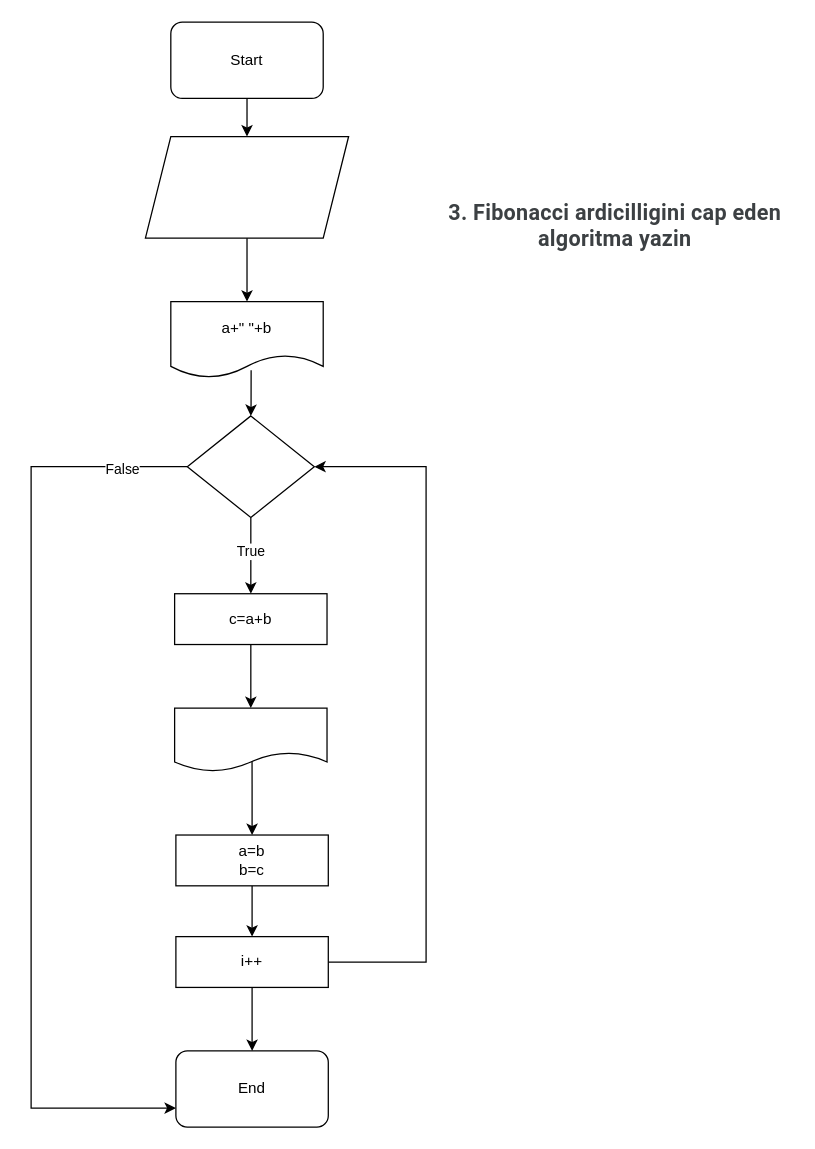
Image size: 815x1149. Some labels were removed from this diagram. The shapes that lost their labels are listed below. From the top down, each one's box as (x1, y1, x2, y2) in pixels, then its label:
(144, 135, 349, 238): int a=0; int b=1; int c; int n; int i=2
(186, 415, 314, 518): i<n
(173, 707, 327, 772): " "+c
